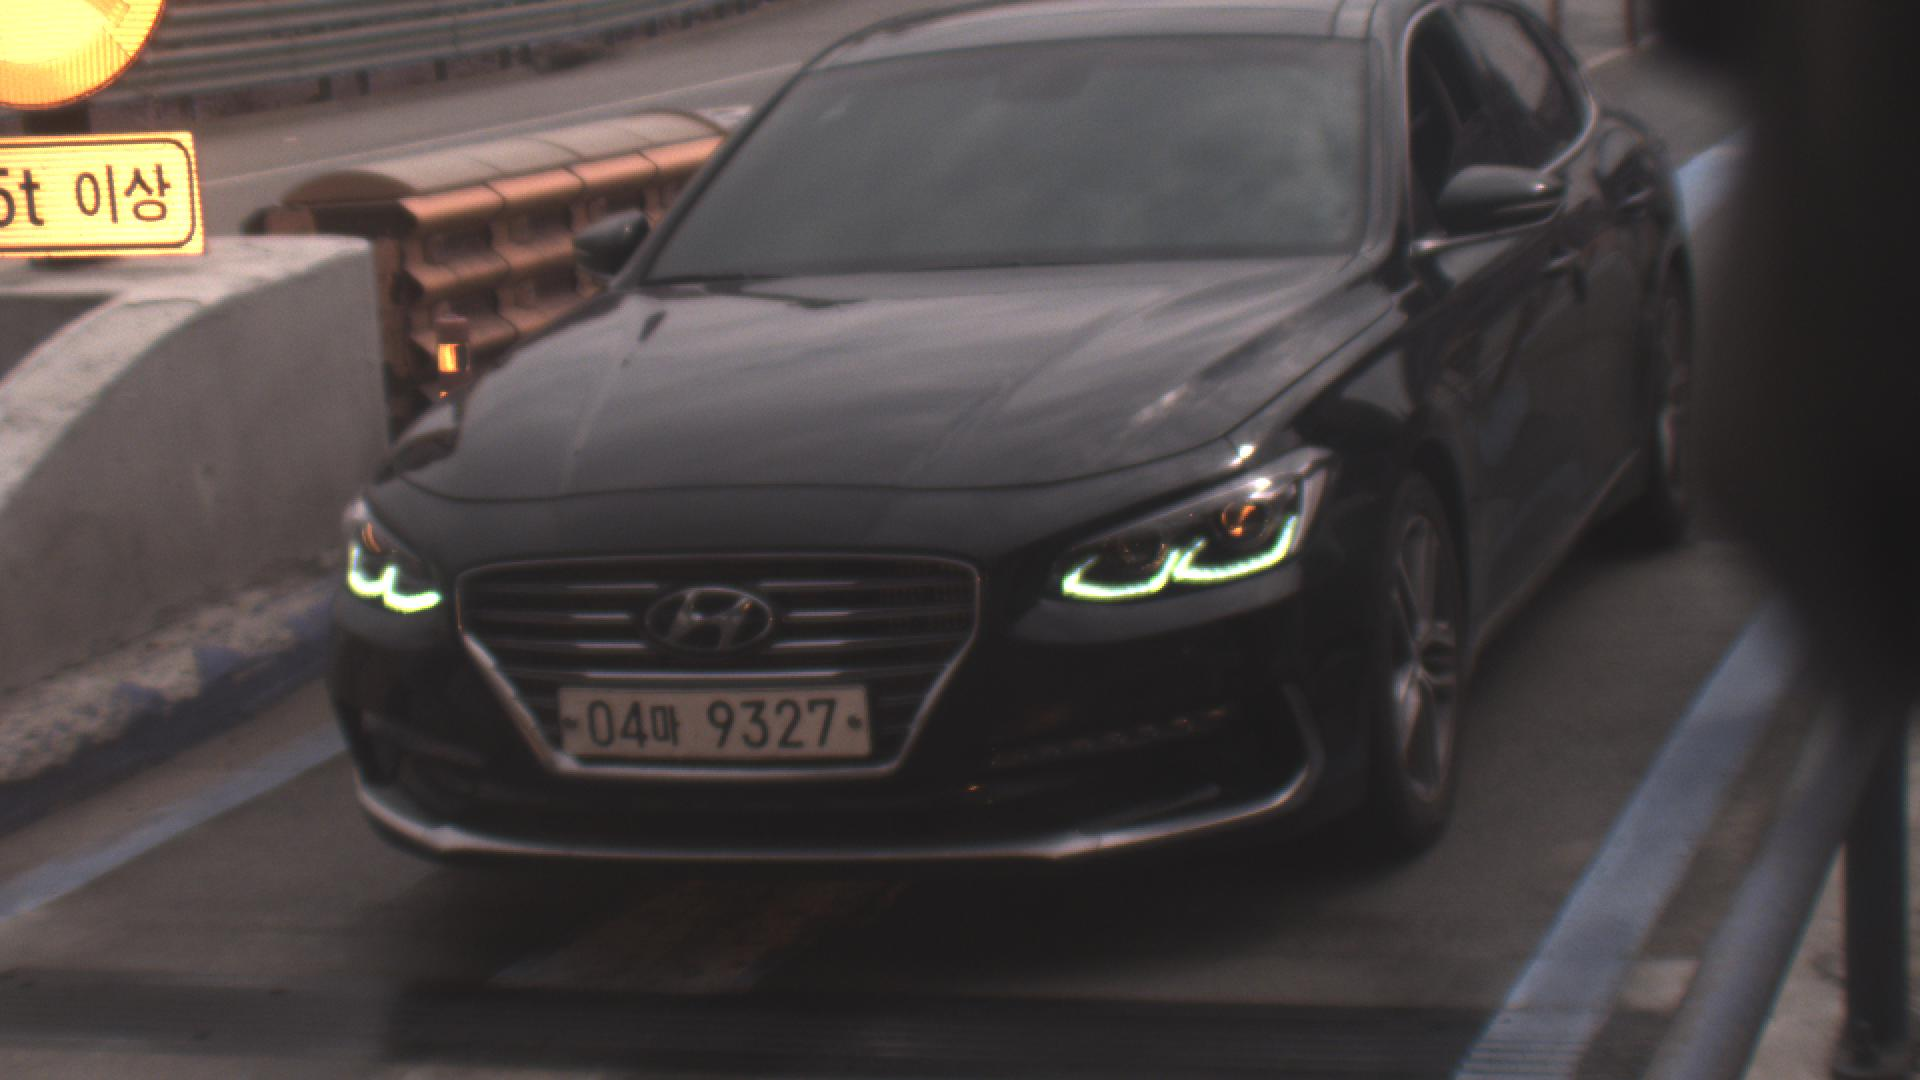car: (315, 4, 1698, 884)
plate: (553, 680, 875, 761)
